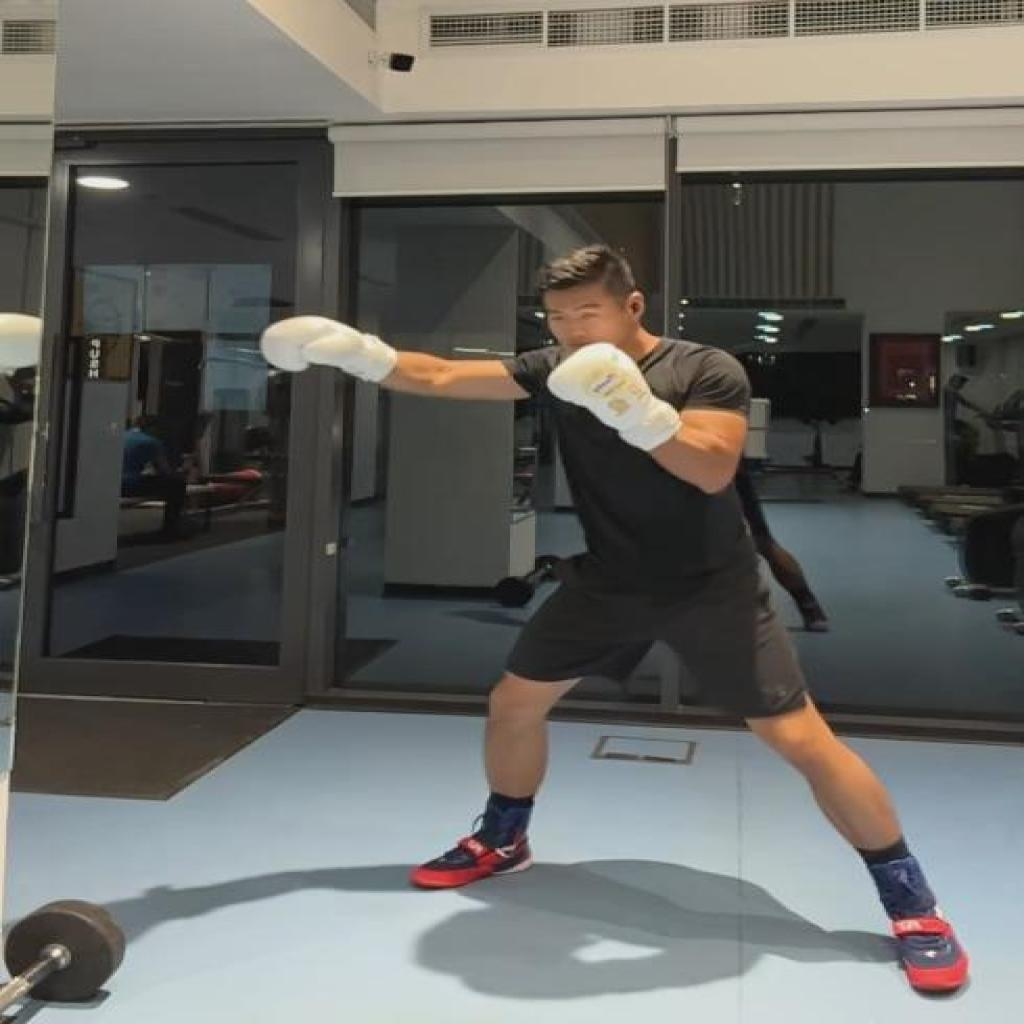jab: (240, 236, 974, 1002)
